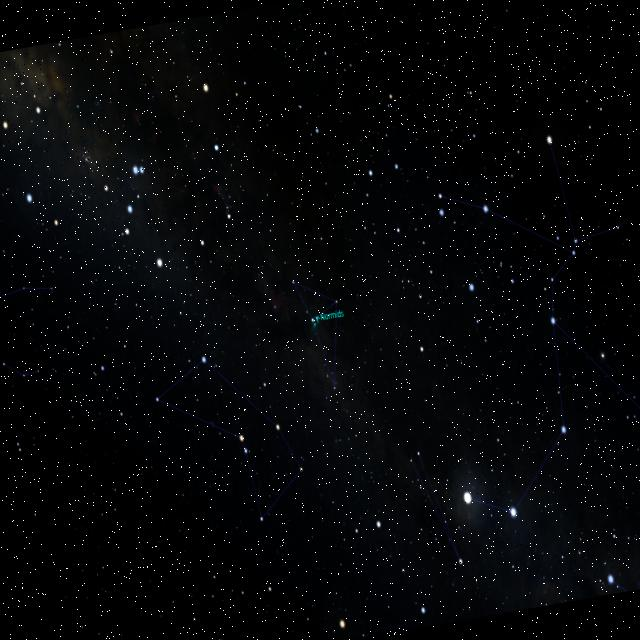Norma: (286, 268, 374, 412)
